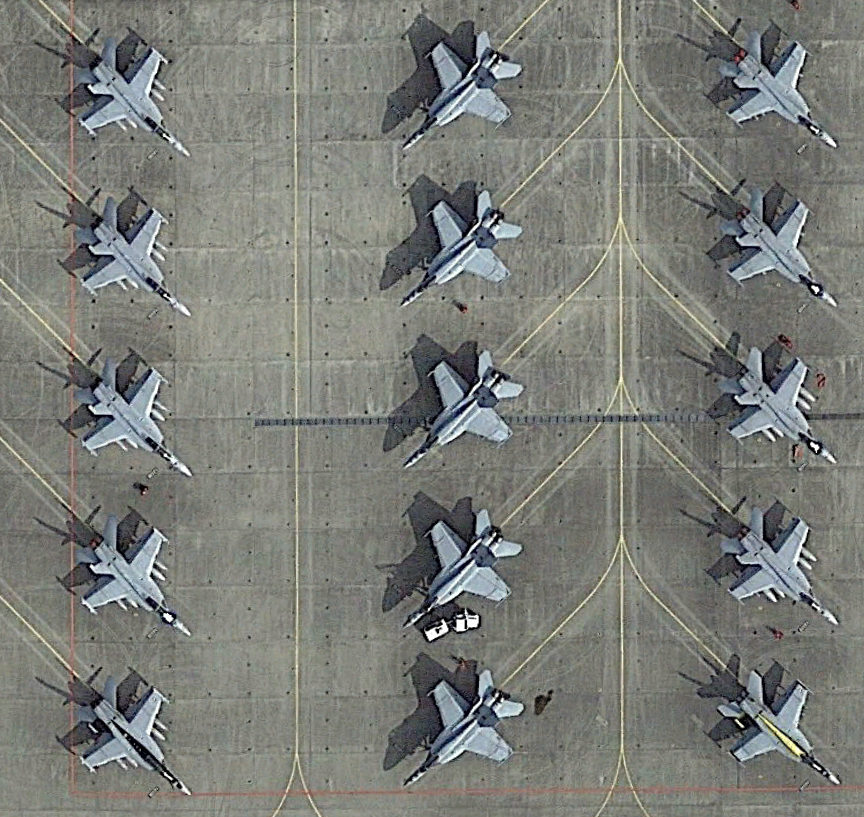A16: (69, 33, 200, 165), (67, 194, 198, 326), (69, 352, 200, 484), (66, 511, 197, 643), (67, 671, 198, 803), (395, 25, 526, 157), (396, 184, 527, 316), (397, 342, 528, 474), (390, 505, 521, 637), (396, 668, 527, 800), (708, 26, 839, 158), (715, 186, 846, 318), (712, 342, 843, 474), (717, 502, 848, 634), (712, 663, 843, 795)
